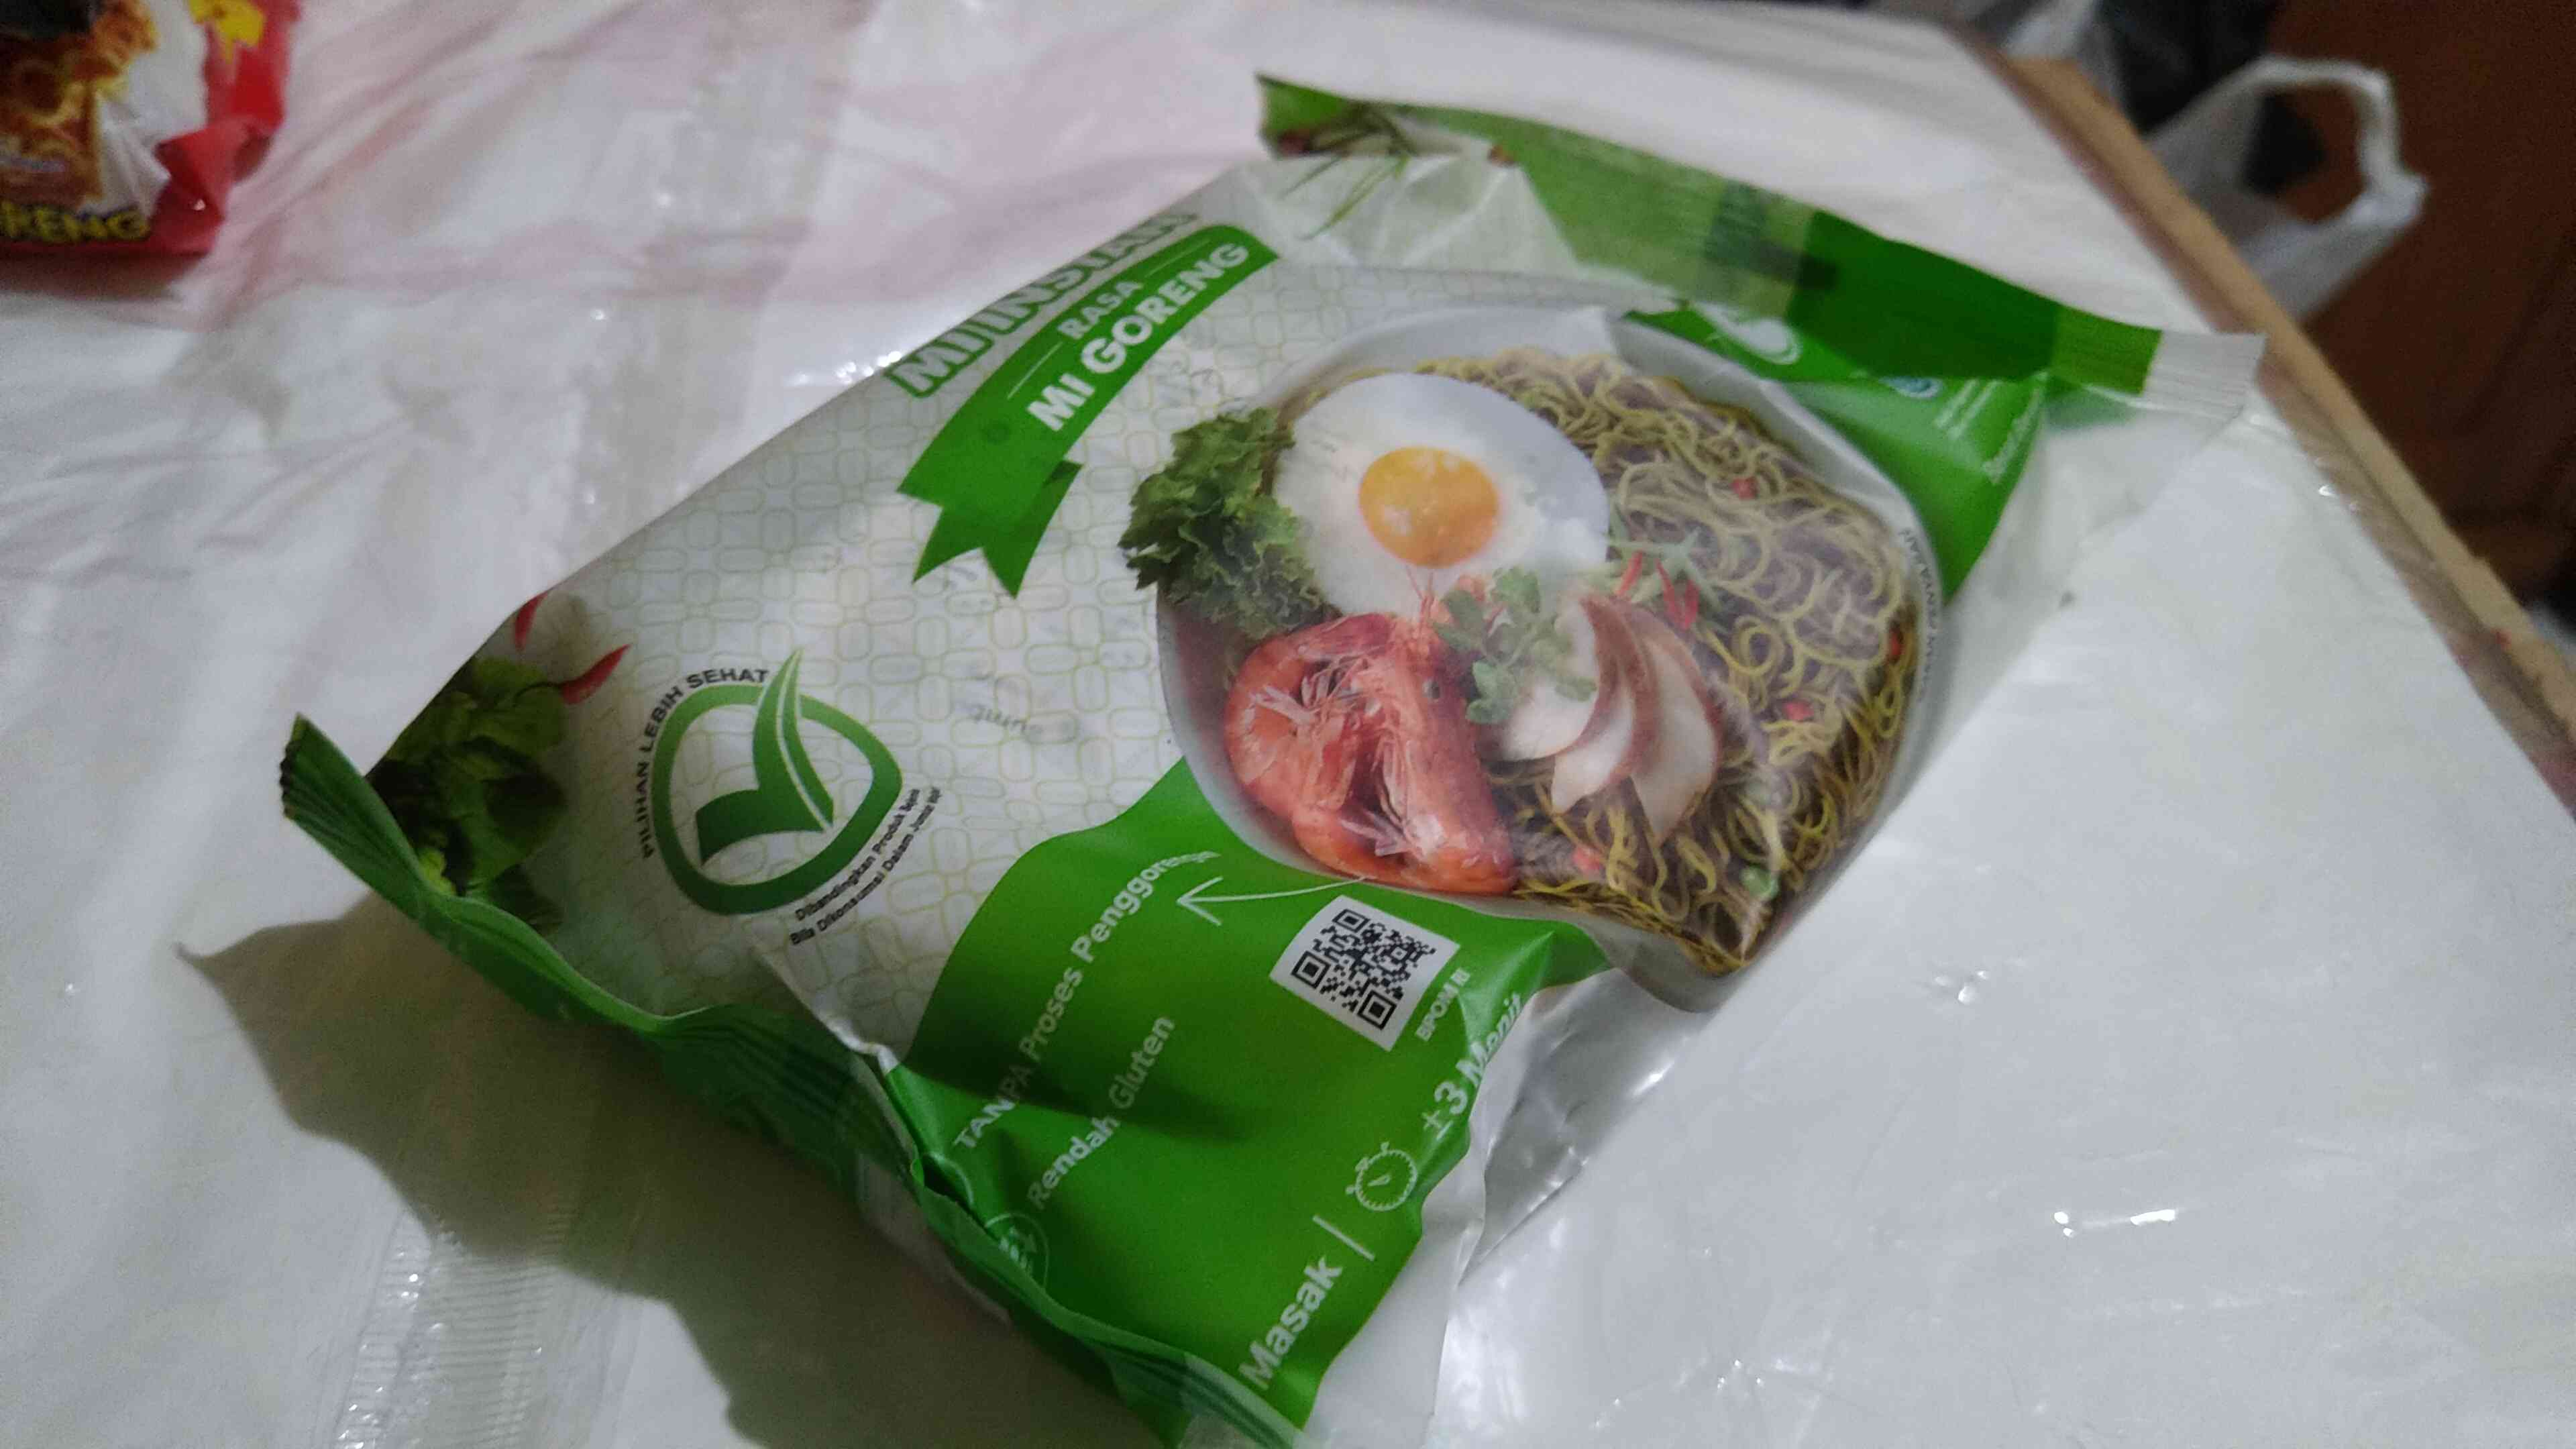lemonilo: (398, 76, 2286, 1389)
